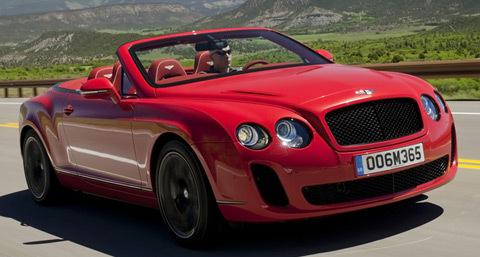Car: (4, 13, 470, 257)
